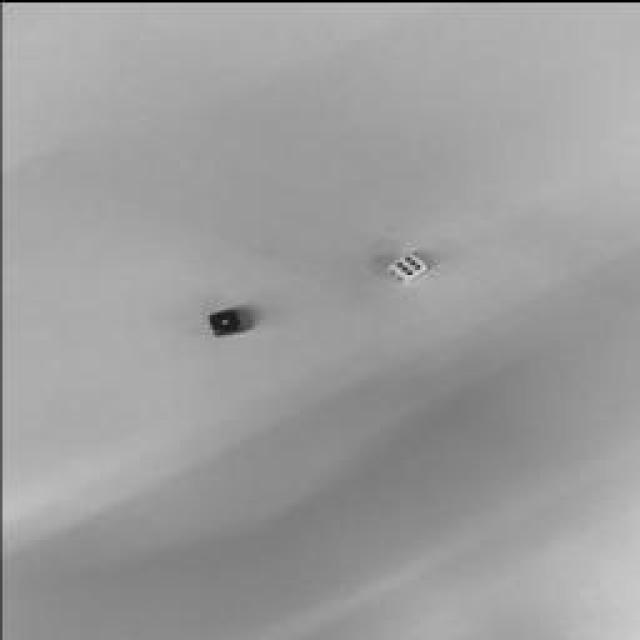dice_1: (210, 308, 240, 332)
dice_6: (388, 252, 428, 276)
